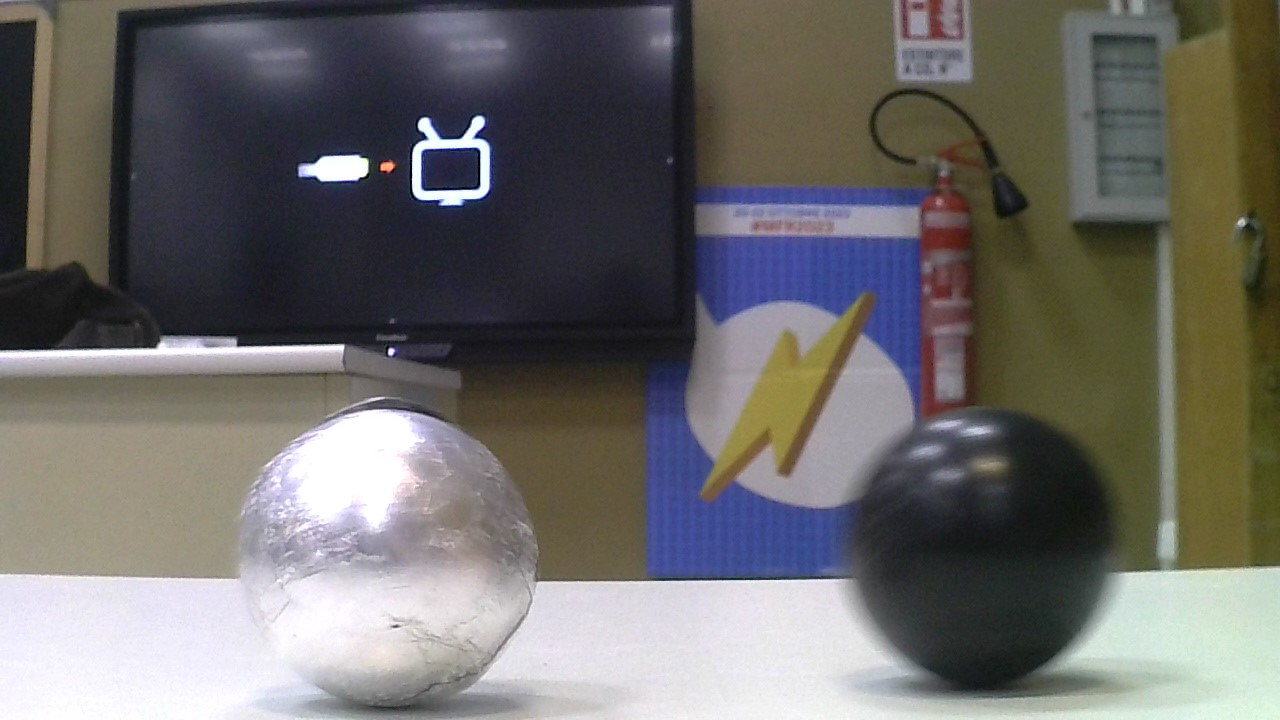black_ball: (849, 399, 1118, 694)
silver_ball: (223, 404, 550, 714)
